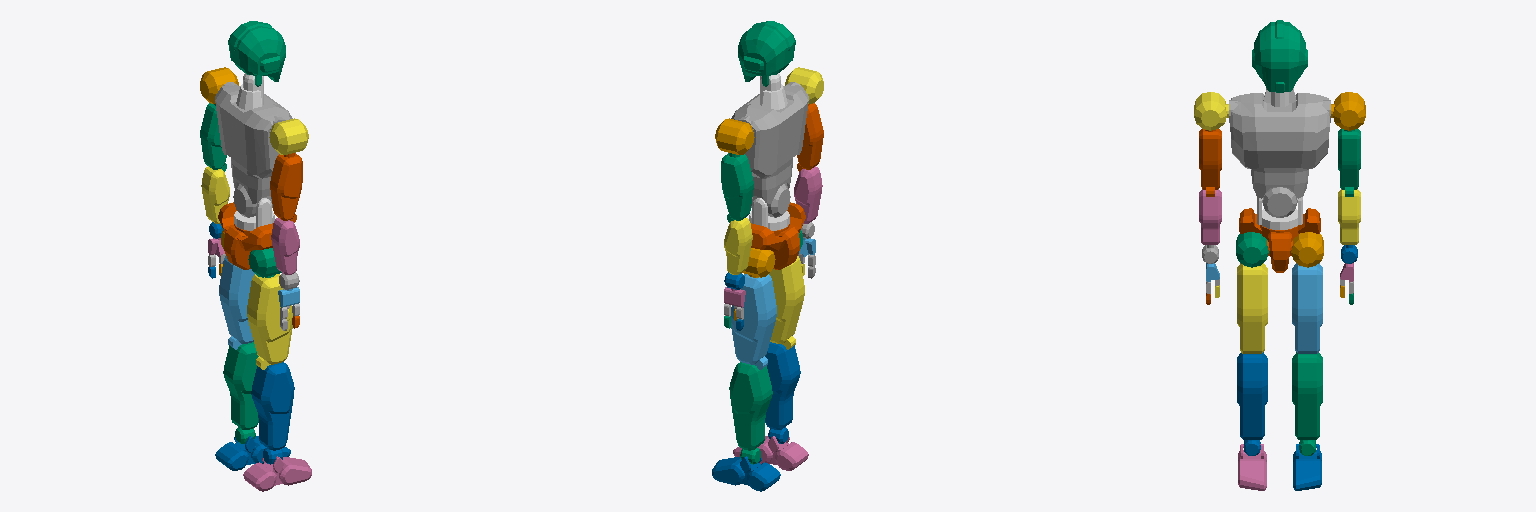
--- Facts derived from the render (not from the file) ---
The picture shows the robot from 3 angles, left to right: view 1: azimuth 30°, elevation 25°; view 2: azimuth 150°, elevation 25°; view 3: azimuth 270°, elevation 25°; orthographic projection.
Robot: jvrc1 — 60 links, 59 joints (44 revolute, 15 fixed); root link base_link; default pose: every joint at zero.
Links seen in each view (by area): view 1: WAIST_R_S, R_KNEE_S, R_HIP_Y_S, NECK_P_S, L_KNEE_S, L_HIP_Y_S, R_SHOULDER_Y_S, PELVIS_S, R_ANKLE_P_S, R_ELBOW_P_S, L_ANKLE_P_S, L_SHOULDER_Y_S (+6 smaller); view 2: WAIST_R_S, L_KNEE_S, L_HIP_Y_S, NECK_P_S, R_KNEE_S, R_HIP_Y_S, L_SHOULDER_Y_S, PELVIS_S, L_ANKLE_P_S, L_ELBOW_P_S, R_ANKLE_P_S, R_SHOULDER_Y_S (+6 smaller); view 3: WAIST_R_S, NECK_P_S, R_KNEE_S, L_KNEE_S, R_HIP_Y_S, L_HIP_Y_S, PELVIS_S, R_SHOULDER_Y_S, L_SHOULDER_Y_S, R_ELBOW_P_S, L_ELBOW_P_S, R_ANKLE_P_S (+6 smaller).
Boxes of the visible links, box(x1,y1,x2,y2) form: WAIST_R_S: box(215, 82, 292, 217); R_KNEE_S: box(251, 362, 294, 464); R_HIP_Y_S: box(247, 274, 292, 369); NECK_P_S: box(228, 21, 285, 86); L_KNEE_S: box(223, 342, 258, 443); L_HIP_Y_S: box(219, 256, 254, 349); R_SHOULDER_Y_S: box(270, 153, 302, 222); PELVIS_S: box(218, 202, 272, 269); R_ANKLE_P_S: box(243, 456, 311, 491); R_ELBOW_P_S: box(271, 218, 299, 274); L_ANKLE_P_S: box(215, 436, 290, 470); L_SHOULDER_Y_S: box(200, 103, 226, 171); WAIST_R_S: box(731, 82, 808, 217); L_KNEE_S: box(729, 362, 772, 464); L_HIP_Y_S: box(731, 274, 776, 369); NECK_P_S: box(738, 21, 795, 86); R_KNEE_S: box(765, 342, 800, 443); R_HIP_Y_S: box(769, 256, 804, 349); L_SHOULDER_Y_S: box(721, 153, 753, 222); PELVIS_S: box(751, 202, 805, 269); L_ANKLE_P_S: box(712, 456, 780, 491); L_ELBOW_P_S: box(724, 218, 752, 274); R_ANKLE_P_S: box(733, 436, 808, 470); R_SHOULDER_Y_S: box(797, 103, 823, 171); WAIST_R_S: box(1229, 93, 1330, 217); NECK_P_S: box(1252, 20, 1307, 92); R_KNEE_S: box(1237, 352, 1267, 455); L_KNEE_S: box(1292, 352, 1322, 455); R_HIP_Y_S: box(1237, 263, 1267, 353); L_HIP_Y_S: box(1292, 263, 1322, 353); PELVIS_S: box(1239, 208, 1320, 272); R_SHOULDER_Y_S: box(1199, 129, 1221, 196); L_SHOULDER_Y_S: box(1338, 129, 1360, 196); R_ELBOW_P_S: box(1199, 189, 1221, 244); L_ELBOW_P_S: box(1338, 189, 1360, 244); R_ANKLE_P_S: box(1238, 444, 1266, 490).
Size in the robot's own frame: 0.2846 by 0.595 by 1.71 metres.
Meshes: 35 distinct files referenced, 35 mesh visuals loaded (35 Collada DAE).

The robot description file, URDF, robot "jvrc1":
<?xml version="1.0" encoding="utf-8" ?>
<!-- =================================================================================== -->
<!-- Copyright (c) 2012-2019, CNRS-UM LIRMM, CNRS-AIST JRL                               -->
<!-- =================================================================================== -->
<robot name="jvrc1">
  <link name="base_link"/>
  <link name="R_HIP_P_S">
    <inertial>
      <mass value="1.0"/>
      <origin rpy="0 -0 0" xyz="0.0 0.0 0.0"/>
      <inertia ixx="0.00196" ixy="0.0" ixz="0.0" iyy="0.00196" iyz="0.0" izz="0.00196"/>
    </inertial>
  </link>
  <link name="R_HIP_R_S">
    <inertial>
      <mass value="1.0"/>
      <origin rpy="0 -0 0" xyz="0.0 0.0 0.0"/>
      <inertia ixx="0.00196" ixy="0.0" ixz="0.0" iyy="0.00196" iyz="0.0" izz="0.00196"/>
    </inertial>
    <visual>
      <origin rpy="-0.0 -0.0 1.5708" xyz="0.0 0.0 0.0"/>
      <geometry>
        <mesh filename="package://jvrc_description/meshes/R_HIP_R_S.dae" />
      </geometry>
    </visual>
    <collision>
      <origin rpy="-0.0 -0.0 1.5708" xyz="0.0 0.0 0.0"/>
      <geometry>
        <mesh filename="package://jvrc_description/meshes/R_HIP_R_S.dae" />
      </geometry>
    </collision>
  </link>
  <link name="R_HIP_Y_S">
    <inertial>
      <mass value="3.0"/>
      <origin rpy="0 -0 0" xyz="0.01 0.0 -0.22"/>
      <inertia ixx="0.031925" ixy="0.0" ixz="0.0" iyy="0.034525" iyz="0.0" izz="0.00865"/>
    </inertial>
    <visual>
      <origin rpy="-0.0 -0.0 1.5708" xyz="0.0 0.0 0.0"/>
      <geometry>
        <mesh filename="package://jvrc_description/meshes/R_HIP_Y_S.dae" />
      </geometry>
    </visual>
    <collision>
      <origin rpy="-0.0 -0.0 1.5708" xyz="0.0 0.0 0.0"/>
      <geometry>
        <mesh filename="package://jvrc_description/meshes/R_HIP_Y_S.dae" />
      </geometry>
    </collision>
  </link>
  <link name="R_KNEE_S">
    <inertial>
      <mass value="3.0"/>
      <origin rpy="0 -0 0" xyz="0.04 0.0 -0.16"/>
      <inertia ixx="0.031925" ixy="0.0" ixz="0.0" iyy="0.034525" iyz="0.0" izz="0.00865"/>
    </inertial>
    <visual>
      <origin rpy="0.0 0.0 0.0" xyz="0.0 0.0 0.0" />
      <geometry>
        <mesh filename="package://jvrc_description/meshes/R_KNEE_S.dae" />
      </geometry>
    </visual>
    <collision>
      <origin rpy="0.0 0.0 0.0" xyz="0.0 0.0 0.0" />
      <geometry>
        <mesh filename="package://jvrc_description/meshes/R_KNEE_S.dae" />
      </geometry>
    </collision>
  </link>
  <link name="R_ANKLE_R_S">
    <inertial>
      <mass value="1.0"/>
      <origin rpy="0 -0 0" xyz="0.0 0.0 0.0"/>
      <inertia ixx="0.00064" ixy="0.0" ixz="0.0" iyy="0.00064" iyz="0.0" izz="0.00064"/>
    </inertial>
  </link>
  <link name="R_ANKLE_P_S">
    <inertial>
      <mass value="1.5"/>
      <origin rpy="0 -0 0" xyz="0.03 0.0 -0.07"/>
      <inertia ixx="0.00141666666667" ixy="0.0" ixz="0.0" iyy="0.00561666666667" iyz="0.0" izz="0.00621666666667"/>
    </inertial>
    <visual>
      <origin rpy="-0.0 -0.0 1.5708" xyz="0.0 0.0 0.0"/>
      <geometry>
        <mesh filename="package://jvrc_description/meshes/R_ANKLE_P_S.dae" />
      </geometry>
    </visual>
    <collision>
      <origin rpy="-0.0 -0.0 1.5708" xyz="0.0 0.0 0.0"/>
      <geometry>
        <mesh filename="package://jvrc_description/meshes/R_ANKLE_P_S.dae" />
      </geometry>
    </collision>
  </link>
  <link name="L_HIP_P_S">
    <inertial>
      <mass value="1.0"/>
      <origin rpy="0 -0 0" xyz="0.0 0.0 0.0"/>
      <inertia ixx="0.00196" ixy="0.0" ixz="0.0" iyy="0.00196" iyz="0.0" izz="0.00196"/>
    </inertial>
  </link>
  <link name="L_HIP_R_S">
    <inertial>
      <mass value="1.0"/>
      <origin rpy="0 -0 0" xyz="0.0 0.0 0.0"/>
      <inertia ixx="0.00196" ixy="0.0" ixz="0.0" iyy="0.00196" iyz="0.0" izz="0.00196"/>
    </inertial>
    <visual>
      <origin rpy="-0.0 -0.0 1.5708" xyz="0.0 0.0 0.0"/>
      <geometry>
        <mesh filename="package://jvrc_description/meshes/L_HIP_R_S.dae" />
      </geometry>
    </visual>
    <collision>
      <origin rpy="-0.0 -0.0 1.5708" xyz="0.0 0.0 0.0"/>
      <geometry>
        <mesh filename="package://jvrc_description/meshes/L_HIP_R_S.dae" />
      </geometry>
    </collision>
  </link>
  <link name="L_HIP_Y_S">
    <inertial>
      <mass value="3.0"/>
      <origin rpy="0 -0 0" xyz="0.01 0.0 -0.22"/>
      <inertia ixx="0.031925" ixy="0.0" ixz="0.0" iyy="0.034525" iyz="0.0" izz="0.00865"/>
    </inertial>
    <visual>
      <origin rpy="-0.0 -0.0 1.5708" xyz="0.0 0.0 0.0"/>
      <geometry>
        <mesh filename="package://jvrc_description/meshes/L_HIP_Y_S.dae" />
      </geometry>
    </visual>
    <collision>
      <origin rpy="-0.0 -0.0 1.5708" xyz="0.0 0.0 0.0"/>
      <geometry>
        <mesh filename="package://jvrc_description/meshes/L_HIP_Y_S.dae" />
      </geometry>
    </collision>
  </link>
  <link name="L_KNEE_S">
    <inertial>
      <mass value="3.0"/>
      <origin rpy="0 -0 0" xyz="0.04 0.0 -0.16"/>
      <inertia ixx="0.031925" ixy="0.0" ixz="0.0" iyy="0.034525" iyz="0.0" izz="0.00865"/>
    </inertial>
    <visual>
      <origin rpy="0.0 0.0 0.0" xyz="0.0 0.0 0.0"/>
      <geometry>
        <mesh filename="package://jvrc_description/meshes/L_KNEE_S.dae" />
      </geometry>
    </visual>
    <collision>
      <origin rpy="0.0 0.0 0.0" xyz="0.0 0.0 0.0"/>
      <geometry>
        <mesh filename="package://jvrc_description/meshes/L_KNEE_S.dae" />
      </geometry>
    </collision>
  </link>
  <link name="L_ANKLE_R_S">
    <inertial>
      <mass value="1.0"/>
      <origin rpy="0 -0 0" xyz="0.0 0.0 0.0"/>
      <inertia ixx="0.00064" ixy="0.0" ixz="0.0" iyy="0.00064" iyz="0.0" izz="0.00064"/>
    </inertial>
  </link>
  <link name="L_ANKLE_P_S">
    <inertial>
      <mass value="1.5"/>
      <origin rpy="0 -0 0" xyz="0.03 0.0 -0.07"/>
      <inertia ixx="0.00141666666667" ixy="0.0" ixz="0.0" iyy="0.00561666666667" iyz="0.0" izz="0.00621666666667"/>
    </inertial>
    <visual>
      <origin rpy="-0.0 -0.0 1.5708" xyz="0.0 0.0 0.0"/>
      <geometry>
        <mesh filename="package://jvrc_description/meshes/L_ANKLE_P_S.dae" />
      </geometry>
    </visual>
    <collision>
      <origin rpy="-0.0 -0.0 1.5708" xyz="0.0 0.0 0.0"/>
      <geometry>
        <mesh filename="package://jvrc_description/meshes/L_ANKLE_P_S.dae" />
      </geometry>
    </collision>
  </link>
  <link name="WAIST_Y_S">
    <inertial>
      <mass value="1.0"/>
      <origin rpy="0 -0 0" xyz="0.0 0.0 -0.07"/>
      <inertia ixx="0.00173333333333" ixy="0.0" ixz="0.0" iyy="0.00173333333333" iyz="0.0" izz="0.0032"/>
    </inertial>
    <visual>
      <origin rpy="-0.0 -0.0 1.5708" xyz="0.0 0.0 0.0"/>
      <geometry>
        <mesh filename="package://jvrc_description/meshes/WAIST_Y_S.dae" />
      </geometry>
    </visual>
    <collision>
      <origin rpy="-0.0 -0.0 1.5708" xyz="0.0 0.0 0.0"/>
      <geometry>
        <mesh filename="package://jvrc_description/meshes/WAIST_Y_S.dae" />
      </geometry>
    </collision>
  </link>
  <link name="WAIST_P_S">
    <inertial>
      <mass value="1.0"/>
      <origin rpy="0 -0 0" xyz="0.0 0.0 0.0"/>
      <inertia ixx="0.00245" ixy="0.0" ixz="0.0" iyy="0.002425" iyz="0.0" izz="0.002425"/>
    </inertial>
  </link>
  <link name="WAIST_R_S">
    <inertial>
      <mass value="10.0"/>
      <origin rpy="0 -0 0" xyz="0.02 0.0 0.24"/>
      <inertia ixx="0.157083333333" ixy="0.0" ixz="0.0" iyy="0.101083333333" iyz="0.0" izz="0.136666666667"/>
    </inertial>
    <visual>
      <origin rpy="0.0 0.0 0.0" xyz="0.0 0.0 0.0"/>
      <geometry>
        <mesh filename="package://jvrc_description/meshes/WAIST_R_S.dae" />
      </geometry>
    </visual>
    <collision>
      <origin rpy="0.0 0.0 0.0" xyz="0.0 0.0 0.0"/>
      <geometry>
        <mesh filename="package://jvrc_description/meshes/WAIST_R_S.dae" />
      </geometry>
    </collision>
  </link>
  <link name="NECK_Y_S">
    <inertial>
      <mass value="0.5"/>
      <origin rpy="0 -0 0" xyz="0.0 0.0 -0.05"/>
      <inertia ixx="0.000729166666667" ixy="0.0" ixz="0.0" iyy="0.000729166666667" iyz="0.0" izz="0.000625"/>
    </inertial>
    <visual>
      <origin rpy="-0.0 -0.0 1.5708" xyz="0.0 0.0 0.0"/>
      <geometry>
        <mesh filename="package://jvrc_description/meshes/NECK_Y_S.dae" />
      </geometry>
    </visual>
    <collision>
      <origin rpy="-0.0 -0.0 1.5708" xyz="0.0 0.0 0.0"/>
      <geometry>
        <mesh filename="package://jvrc_description/meshes/NECK_Y_S.dae" />
      </geometry>
    </collision>
  </link>
  <link name="NECK_R_S">
    <inertial>
      <mass value="0.5"/>
      <origin rpy="0 -0 0" xyz="0.0 0.0 0.0"/>
      <inertia ixx="0.0005" ixy="0.0" ixz="0.0" iyy="0.0005" iyz="0.0" izz="0.0005"/>
    </inertial>
  </link>
  <link name="NECK_P_S">
    <inertial>
      <mass value="2.0"/>
      <origin rpy="0 -0 0" xyz="0.01 0.0 0.11"/>
      <inertia ixx="0.00968" ixy="0.0" ixz="0.0" iyy="0.00968" iyz="0.0" izz="0.00968"/>
    </inertial>
    <visual>
      <origin rpy="-0.0 0.0 0.0" xyz="0.0 0.0 0.0"/>
      <geometry>
        <mesh filename="package://jvrc_description/meshes/NECK_P_S.dae" />
      </geometry>
    </visual>
    <collision>
      <origin rpy="-0.0 0.0 0.0" xyz="0.0 0.0 0.0"/>
      <geometry>
        <mesh filename="package://jvrc_description/meshes/NECK_P_S.dae" />
      </geometry>
    </collision>
  </link>
  <link name="R_SHOULDER_P_S">
    <inertial>
      <mass value="1.0"/>
      <origin rpy="0 -0 0" xyz="0.0 0.0 0.0"/>
      <inertia ixx="0.00196" ixy="0.0" ixz="0.0" iyy="0.00196" iyz="0.0" izz="0.00196"/>
    </inertial>
    <visual>
      <origin rpy="-0.0 -0.0 1.5708" xyz="0.0 0.0 0.0"/>
      <geometry>
        <mesh filename="package://jvrc_description/meshes/R_SHOULDER_P_S.dae" />
      </geometry>
    </visual>
    <collision>
      <origin rpy="-0.0 -0.0 1.5708" xyz="0.0 0.0 0.0"/>
      <geometry>
        <mesh filename="package://jvrc_description/meshes/R_SHOULDER_P_S.dae" />
      </geometry>
    </collision>
  </link>
  <link name="R_SHOULDER_R_S">
    <inertial>
      <mass value="1.0"/>
      <origin rpy="0 -0 0" xyz="0.0 0.0 0.0"/>
      <inertia ixx="0.00196" ixy="0.0" ixz="0.0" iyy="0.00196" iyz="0.0" izz="0.00196"/>
    </inertial>
  </link>
  <link name="R_SHOULDER_Y_S">
    <inertial>
      <mass value="2.0"/>
      <origin rpy="0 -0 0" xyz="-0.01 0.0 -0.19"/>
      <inertia ixx="0.01365" ixy="0.0" ixz="0.0" iyy="0.0146" iyz="0.0" izz="0.00635"/>
    </inertial>
    <visual>
      <origin rpy="-0.0 -0.0 1.5708" xyz="0.0 0.0 0.0"/>
      <geometry>
        <mesh filename="package://jvrc_description/meshes/R_SHOULDER_Y_S.dae" />
      </geometry>
    </visual>
    <collision>
      <origin rpy="-0.0 -0.0 1.5708" xyz="0.0 0.0 0.0"/>
      <geometry>
        <mesh filename="package://jvrc_description/meshes/R_SHOULDER_Y_S.dae" />
      </geometry>
    </collision>
  </link>
  <link name="R_ELBOW_P_S">
    <inertial>
      <mass value="1.0"/>
      <origin rpy="0 -0 0" xyz="-0.02 0.0 -0.1"/>
      <inertia ixx="0.010675" ixy="0.0" ixz="0.0" iyy="0.010675" iyz="0.0" izz="0.0027"/>
    </inertial>
    <visual>
      <origin rpy="-0.0 -0.0 1.5708" xyz="0.0 0.0 0.0"/>
      <geometry>
        <mesh filename="package://jvrc_description/meshes/R_ELBOW_P_S.dae" />
      </geometry>
    </visual>
    <collision>
      <origin rpy="-0.0 -0.0 1.5708" xyz="0.0 0.0 0.0"/>
      <geometry>
        <mesh filename="package://jvrc_description/meshes/R_ELBOW_P_S.dae" />
      </geometry>
    </collision>
  </link>
  <link name="R_ELBOW_Y_S">
    <inertial>
      <mass value="1.0"/>
      <origin rpy="0 -0 0" xyz="0.0 0.0 0.0"/>
      <inertia ixx="0.00064" ixy="0.0" ixz="0.0" iyy="0.00064" iyz="0.0" izz="0.00064"/>
    </inertial>
    <visual>
      <origin rpy="-0.0 -0.0 1.5708" xyz="0.0 0.0 0.0"/>
      <geometry>
        <mesh filename="package://jvrc_description/meshes/R_ELBOW_Y_S.dae" />
      </geometry>
    </visual>
    <collision>
      <origin rpy="-0.0 -0.0 1.5708" xyz="0.0 0.0 0.0"/>
      <geometry>
        <mesh filename="package://jvrc_description/meshes/R_ELBOW_Y_S.dae" />
      </geometry>
    </collision>
  </link>
  <link name="R_WRIST_R_S">
    <inertial>
      <mass value="0.5"/>
      <origin rpy="0 -0 0" xyz="0.0 0.0 0.0"/>
      <inertia ixx="0.00032" ixy="0.0" ixz="0.0" iyy="0.00032" iyz="0.0" izz="0.00032"/>
    </inertial>
  </link>
  <link name="R_WRIST_Y_S">
    <inertial>
      <mass value="0.5"/>
      <origin rpy="0 -0 0" xyz="0.0 0.01 -0.06"/>
      <inertia ixx="0.0004625" ixy="0.0" ixz="0.0" iyy="0.0007625" iyz="0.0" izz="0.0004625"/>
    </inertial>
    <visual>
      <origin rpy="-0.0 -0.0 1.5708" xyz="0.0 0.0 0.0"/>
      <geometry>
        <mesh filename="package://jvrc_description/meshes/R_WRIST_Y_S.dae" />
      </geometry>
    </visual>
    <collision>
      <origin rpy="-0.0 -0.0 1.5708" xyz="0.0 0.0 0.0"/>
      <geometry>
        <mesh filename="package://jvrc_description/meshes/R_WRIST_Y_S.dae" />
      </geometry>
    </collision>
  </link>
  <link name="R_UTHUMB_S">
    <inertial>
      <mass value="0.2"/>
      <origin rpy="0 -0 0" xyz="0.0 0.0 -0.015"/>
      <inertia ixx="6.16666666667e-05" ixy="0.0" ixz="0.0" iyy="6.16666666667e-05" iyz="0.0" izz="2.66666666667e-05"/>
    </inertial>
    <visual>
      <origin rpy="-0.0 -0.0 1.5708" xyz="0.0 0.0 0.0"/>
      <geometry>
        <mesh filename="package://jvrc_description/meshes/R_UTHUMB_S.dae" />
      </geometry>
    </visual>
    <collision>
      <origin rpy="-0.0 -0.0 1.5708" xyz="0.0 0.0 0.0"/>
      <geometry>
        <mesh filename="package://jvrc_description/meshes/R_UTHUMB_S.dae" />
      </geometry>
    </collision>
  </link>
  <link name="R_LTHUMB_S">
    <inertial>
      <mass value="0.2"/>
      <origin rpy="0 -0 0" xyz="0.0 0.0 -0.015"/>
      <inertia ixx="6.16666666667e-05" ixy="0.0" ixz="0.0" iyy="6.16666666667e-05" iyz="0.0" izz="2.66666666667e-05"/>
    </inertial>
    <visual>
      <origin rpy="-0.0 -0.0 1.5708" xyz="0.0 0.0 0.0"/>
      <geometry>
        <mesh filename="package://jvrc_description/meshes/R_LTHUMB_S.dae" />
      </geometry>
    </visual>
    <collision>
      <origin rpy="-0.0 -0.0 1.5708" xyz="0.0 0.0 0.0"/>
      <geometry>
        <mesh filename="package://jvrc_description/meshes/R_LTHUMB_S.dae" />
      </geometry>
    </collision>
  </link>
  <link name="R_UINDEX_S">
    <inertial>
      <mass value="0.2"/>
      <origin rpy="0 -0 0" xyz="0.0 0.0 -0.015"/>
      <inertia ixx="6.16666666667e-05" ixy="0.0" ixz="0.0" iyy="6.16666666667e-05" iyz="0.0" izz="2.66666666667e-05"/>
    </inertial>
    <visual>
      <origin rpy="-0.0 -0.0 1.5708" xyz="0.0 0.0 0.0"/>
      <geometry>
        <mesh filename="package://jvrc_description/meshes/R_UINDEX_S.dae" />
      </geometry>
    </visual>
    <collision>
      <origin rpy="-0.0 -0.0 1.5708" xyz="0.0 0.0 0.0"/>
      <geometry>
        <mesh filename="package://jvrc_description/meshes/R_UINDEX_S.dae" />
      </geometry>
    </collision>
  </link>
  <link name="R_LINDEX_S">
    <inertial>
      <mass value="0.2"/>
      <origin rpy="0 -0 0" xyz="0.0 0.0 -0.015"/>
      <inertia ixx="6.16666666667e-05" ixy="0.0" ixz="0.0" iyy="6.16666666667e-05" iyz="0.0" izz="2.66666666667e-05"/>
    </inertial>
    <visual>
      <origin rpy="-0.0 -0.0 1.5708" xyz="0.0 0.0 0.0"/>
      <geometry>
        <mesh filename="package://jvrc_description/meshes/R_LINDEX_S.dae" />
      </geometry>
    </visual>
    <collision>
      <origin rpy="-0.0 -0.0 1.5708" xyz="0.0 0.0 0.0"/>
      <geometry>
        <mesh filename="package://jvrc_description/meshes/R_LINDEX_S.dae" />
      </geometry>
    </collision>
  </link>
  <link name="R_ULITTLE_S">
    <inertial>
      <mass value="0.2"/>
      <origin rpy="0 -0 0" xyz="0.0 0.0 -0.015"/>
      <inertia ixx="6.16666666667e-05" ixy="0.0" ixz="0.0" iyy="6.16666666667e-05" iyz="0.0" izz="2.66666666667e-05"/>
    </inertial>
    <visual>
      <origin rpy="-0.0 -0.0 1.5708" xyz="0.0 0.0 0.0"/>
      <geometry>
        <mesh filename="package://jvrc_description/meshes/R_ULITTLE_S.dae" />
      </geometry>
    </visual>
    <collision>
      <origin rpy="-0.0 -0.0 1.5708" xyz="0.0 0.0 0.0"/>
      <geometry>
        <mesh filename="package://jvrc_description/meshes/R_ULITTLE_S.dae" />
      </geometry>
    </collision>
  </link>
  <link name="R_LLITTLE_S">
    <inertial>
      <mass value="0.2"/>
      <origin rpy="0 -0 0" xyz="0.0 0.0 -0.015"/>
      <inertia ixx="6.16666666667e-05" ixy="0.0" ixz="0.0" iyy="6.16666666667e-05" iyz="0.0" izz="2.66666666667e-05"/>
    </inertial>
    <visual>
      <origin rpy="-0.0 -0.0 1.5708" xyz="0.0 0.0 0.0"/>
      <geometry>
        <mesh filename="package://jvrc_description/meshes/R_LLITTLE_S.dae" />
      </geometry>
    </visual>
    <collision>
      <origin rpy="-0.0 -0.0 1.5708" xyz="0.0 0.0 0.0"/>
      <geometry>
        <mesh filename="package://jvrc_description/meshes/R_LLITTLE_S.dae" />
      </geometry>
    </collision>
  </link>
  <link name="L_SHOULDER_P_S">
    <inertial>
      <mass value="1.0"/>
      <origin rpy="0 -0 0" xyz="0.0 0.0 0.0"/>
      <inertia ixx="0.00196" ixy="0.0" ixz="0.0" iyy="0.00196" iyz="0.0" izz="0.00196"/>
    </inertial>
    <visual>
      <origin rpy="-0.0 -0.0 1.5708" xyz="0.0 0.0 0.0"/>
      <geometry>
        <mesh filename="package://jvrc_description/meshes/L_SHOULDER_P_S.dae" />
      </geometry>
    </visual>
    <collision>
      <origin rpy="-0.0 -0.0 1.5708" xyz="0.0 0.0 0.0"/>
      <geometry>
        <mesh filename="package://jvrc_description/meshes/L_SHOULDER_P_S.dae" />
      </geometry>
    </collision>
  </link>
  <link name="L_SHOULDER_R_S">
    <inertial>
      <mass value="1.0"/>
      <origin rpy="0 -0 0" xyz="0.0 0.0 0.0"/>
      <inertia ixx="0.00196" ixy="0.0" ixz="0.0" iyy="0.00196" iyz="0.0" izz="0.00196"/>
    </inertial>
  </link>
  <link name="L_SHOULDER_Y_S">
    <inertial>
      <mass value="2.0"/>
      <origin rpy="0 -0 0" xyz="-0.01 0.0 -0.19"/>
      <inertia ixx="0.01365" ixy="0.0" ixz="0.0" iyy="0.0146" iyz="0.0" izz="0.00635"/>
    </inertial>
    <visual>
      <origin rpy="-0.0 -0.0 1.5708" xyz="0.0 0.0 0.0"/>
      <geometry>
        <mesh filename="package://jvrc_description/meshes/L_SHOULDER_Y_S.dae" />
      </geometry>
    </visual>
    <collision>
      <origin rpy="-0.0 -0.0 1.5708" xyz="0.0 0.0 0.0"/>
      <geometry>
        <mesh filename="package://jvrc_description/meshes/L_SHOULDER_Y_S.dae" />
      </geometry>
    </collision>
  </link>
  <link name="L_ELBOW_P_S">
    <inertial>
      <mass value="1.0"/>
      <origin rpy="0 -0 0" xyz="-0.02 0.0 -0.1"/>
      <inertia ixx="0.010675" ixy="0.0" ixz="0.0" iyy="0.010675" iyz="0.0" izz="0.0027"/>
    </inertial>
    <visual>
      <origin rpy="-0.0 -0.0 1.5708" xyz="0.0 0.0 0.0"/>
      <geometry>
        <mesh filename="package://jvrc_description/meshes/L_ELBOW_P_S.dae" />
      </geometry>
    </visual>
    <collision>
      <origin rpy="-0.0 -0.0 1.5708" xyz="0.0 0.0 0.0"/>
      <geometry>
        <mesh filename="package://jvrc_description/meshes/L_ELBOW_P_S.dae" />
      </geometry>
    </collision>
  </link>
  <link name="L_ELBOW_Y_S">
    <inertial>
      <mass value="1.0"/>
      <origin rpy="0 -0 0" xyz="0.0 0.0 0.0"/>
      <inertia ixx="0.00064" ixy="0.0" ixz="0.0" iyy="0.00064" iyz="0.0" izz="0.00064"/>
    </inertial>
    <visual>
      <origin rpy="-0.0 -0.0 1.5708" xyz="0.0 0.0 0.0"/>
      <geometry>
        <mesh filename="package://jvrc_description/meshes/L_ELBOW_Y_S.dae" />
      </geometry>
    </visual>
    <collision>
      <origin rpy="-0.0 -0.0 1.5708" xyz="0.0 0.0 0.0"/>
      <geometry>
        <mesh filename="package://jvrc_description/meshes/L_ELBOW_Y_S.dae" />
      </geometry>
    </collision>
  </link>
  <link name="L_WRIST_R_S">
    <inertial>
      <mass value="0.5"/>
      <origin rpy="0 -0 0" xyz="0.0 0.0 0.0"/>
      <inertia ixx="0.00032" ixy="0.0" ixz="0.0" iyy="0.00032" iyz="0.0" izz="0.00032"/>
    </inertial>
  </link>
  <link name="L_WRIST_Y_S">
    <inertial>
      <mass value="0.5"/>
      <origin rpy="0 -0 0" xyz="0.0 -0.01 -0.06"/>
      <inertia ixx="0.0004625" ixy="0.0" ixz="0.0" iyy="0.0007625" iyz="0.0" izz="0.0004625"/>
    </inertial>
    <visual>
      <origin rpy="-0.0 -0.0 1.5708" xyz="0.0 0.0 0.0"/>
      <geometry>
        <mesh filename="package://jvrc_description/meshes/L_WRIST_Y_S.dae" />
      </geometry>
    </visual>
    <collision>
      <origin rpy="-0.0 -0.0 1.5708" xyz="0.0 0.0 0.0"/>
      <geometry>
        <mesh filename="package://jvrc_description/meshes/L_WRIST_Y_S.dae" />
      </geometry>
    </collision>
  </link>
  <link name="L_UTHUMB_S">
    <inertial>
      <mass value="0.2"/>
      <origin rpy="0 -0 0" xyz="0.0 0.0 -0.015"/>
      <inertia ixx="6.16666666667e-05" ixy="0.0" ixz="0.0" iyy="6.16666666667e-05" iyz="0.0" izz="2.66666666667e-05"/>
    </inertial>
    <visual>
      <origin rpy="-0.0 -0.0 1.5708" xyz="0.0 0.0 0.0"/>
      <geometry>
        <mesh filename="package://jvrc_description/meshes/L_UTHUMB_S.dae" />
      </geometry>
    </visual>
    <collision>
      <origin rpy="-0.0 -0.0 1.5708" xyz="0.0 0.0 0.0"/>
      <geometry>
        <mesh filename="package://jvrc_description/meshes/L_UTHUMB_S.dae" />
      </geometry>
    </collision>
  </link>
  <link name="L_LTHUMB_S">
    <inertial>
      <mass value="0.2"/>
      <origin rpy="0 -0 0" xyz="0.0 0.0 -0.015"/>
      <inertia ixx="6.16666666667e-05" ixy="0.0" ixz="0.0" iyy="6.16666666667e-05" iyz="0.0" izz="2.66666666667e-05"/>
    </inertial>
    <visual>
      <origin rpy="-0.0 -0.0 1.5708" xyz="0.0 0.0 0.0"/>
      <geometry>
        <mesh filename="package://jvrc_description/meshes/L_LTHUMB_S.dae" />
      </geometry>
    </visual>
    <collision>
      <origin rpy="-0.0 -0.0 1.5708" xyz="0.0 0.0 0.0"/>
      <geometry>
        <mesh filename="package://jvrc_description/meshes/L_LTHUMB_S.dae" />
      </geometry>
    </collision>
  </link>
  <link name="L_UINDEX_S">
    <inertial>
      <mass value="0.2"/>
      <origin rpy="0 -0 0" xyz="0.0 0.0 -0.015"/>
      <inertia ixx="6.16666666667e-05" ixy="0.0" ixz="0.0" iyy="6.16666666667e-05" iyz="0.0" izz="2.66666666667e-05"/>
    </inertial>
    <visual>
      <origin rpy="-0.0 -0.0 1.5708" xyz="0.0 0.0 0.0"/>
      <geometry>
        <mesh filename="package://jvrc_description/meshes/L_UINDEX_S.dae" />
      </geometry>
    </visual>
    <collision>
      <origin rpy="-0.0 -0.0 1.5708" xyz="0.0 0.0 0.0"/>
      <geometry>
        <mesh filename="package://jvrc_description/meshes/L_UINDEX_S.dae" />
      </geometry>
    </collision>
  </link>
  <link name="L_LINDEX_S">
    <inertial>
      <mass value="0.2"/>
      <origin rpy="0 -0 0" xyz="0.0 0.0 -0.015"/>
      <inertia ixx="6.16666666667e-05" ixy="0.0" ixz="0.0" iyy="6.16666666667e-05" iyz="0.0" izz="2.66666666667e-05"/>
    </inertial>
    <visual>
      <origin rpy="-0.0 -0.0 1.5708" xyz="0.0 0.0 0.0"/>
      <geometry>
        <mesh filename="package://jvrc_description/meshes/L_LINDEX_S.dae" />
      </geometry>
    </visual>
    <collision>
      <origin rpy="-0.0 -0.0 1.5708" xyz="0.0 0.0 0.0"/>
      <geometry>
        <mesh filename="package://jvrc_description/meshes/L_LINDEX_S.dae" />
      </geometry>
    </collision>
  </link>
  <link name="L_ULITTLE_S">
    <inertial>
      <mass value="0.2"/>
      <origin rpy="0 -0 0" xyz="0.0 0.0 -0.015"/>
      <inertia ixx="6.16666666667e-05" ixy="0.0" ixz="0.0" iyy="6.16666666667e-05" iyz="0.0" izz="2.66666666667e-05"/>
    </inertial>
    <visual>
      <origin rpy="-0.0 -0.0 1.5708" xyz="0.0 0.0 0.0"/>
      <geometry>
        <mesh filename="package://jvrc_description/meshes/L_ULITTLE_S.dae" />
      </geometry>
    </visual>
    <collision>
      <origin rpy="-0.0 -0.0 1.5708" xyz="0.0 0.0 0.0"/>
      <geometry>
        <mesh filename="package://jvrc_description/meshes/L_ULITTLE_S.dae" />
      </geometry>
    </collision>
  </link>
  <link name="L_LLITTLE_S">
    <inertial>
      <mass value="0.2"/>
      <origin rpy="0 -0 0" xyz="0.0 0.0 -0.015"/>
      <inertia ixx="6.16666666667e-05" ixy="0.0" ixz="0.0" iyy="6.16666666667e-05" iyz="0.0" izz="2.66666666667e-05"/>
    </inertial>
    <visual>
      <origin rpy="-0.0 -0.0 1.5708" xyz="0.0 0.0 0.0"/>
      <geometry>
        <mesh filename="package://jvrc_description/meshes/L_LLITTLE_S.dae" />
      </geometry>
    </visual>
    <collision>
      <origin rpy="-0.0 -0.0 1.5708" xyz="0.0 0.0 0.0"/>
      <geometry>
        <mesh filename="package://jvrc_description/meshes/L_LLITTLE_S.dae" />
      </geometry>
    </collision>
  </link>
  <link name="PELVIS_S">
    <inertial>
      <mass value="10.0"/>
      <origin rpy="0 -0 0" xyz="-0.01 0.0 0.034"/>
      <inertia ixx="0.0895833333333" ixy="0.0" ixz="0.0" iyy="0.0895833333333" iyz="0.0" izz="0.1125"/>
    </inertial>
    <visual>
      <origin rpy="-0.0 -0.0 1.5708" xyz="0.0 0.0 0.0"/>
      <geometry>
        <mesh filename="package://jvrc_description/meshes/PELVIS_S.dae" />
      </geometry>
    </visual>
    <collision>
      <origin rpy="-0.0 -0.0 1.5708" xyz="0.0 0.0 0.0"/>
      <geometry>
        <mesh filename="package://jvrc_description/meshes/PELVIS_S.dae" />
      </geometry>
    </collision>
  </link>
  <joint name="waist" type="fixed">
    <parent link="base_link"/>
    <child link="PELVIS_S"/>
    <origin rpy="0 0 0" xyz="0 0 0"/>
  </joint>
  <joint name="R_HIP_P" type="revolute">
    <origin rpy="0.0 -0.0 0.0" xyz="0.0 -0.096 0.0"/>
    <axis xyz="0.0 1.0 0.0"/>
    <parent link="PELVIS_S"/>
    <child link="R_HIP_P_S"/>
    <limit effort="100.0" lower="-2.09439510239" upper="0.785398163397" velocity="12.56636"/>
  </joint>
  <joint name="R_HIP_R" type="revolute">
    <origin rpy="0.0 -0.0 0.0" xyz="0.0 2.77555756156e-17 0.0"/>
    <axis xyz="1.0 0.0 0.0"/>
    <parent link="R_HIP_P_S"/>
    <child link="R_HIP_R_S"/>
    <limit effort="100.0" lower="-0.785398163397" upper="0.349065850399" velocity="8.90117"/>
  </joint>
  <joint name="R_HIP_Y" type="revolute">
    <origin rpy="0.0 -0.0 0.0" xyz="0.0 2.77555756156e-17 0.0"/>
    <axis xyz="0.0 0.0 1.0"/>
    <parent link="R_HIP_R_S"/>
    <child link="R_HIP_Y_S"/>
    <limit effort="100.0" lower="-0.523598775598" upper="0.785398163397" velocity="8.90117"/>
  </joint>
  <joint name="R_KNEE" type="revolute">
    <origin rpy="0.0 -0.0 0.0" xyz="-0.02 2.77555756156e-17 -0.389"/>
    <axis xyz="0.0 1.0 0.0"/>
    <parent link="R_HIP_Y_S"/>
    <child link="R_KNEE_S"/>
    <limit effort="100.0" lower="0.0" upper="2.61799387799" velocity="14.66075"/>
  </joint>
  <joint name="R_ANKLE_R" type="revolute">
    <origin rpy="0.0 -0.0 0.0" xyz="0.04 1.11022302463e-16 -0.357"/>
    <axis xyz="1.0 0.0 0.0"/>
    <parent link="R_KNEE_S"/>
    <child link="R_ANKLE_R_S"/>
    <limit effort="100.0" lower="-0.610865238198" upper="0.785398163397" velocity="15.18435"/>
  </joint>
  <joint name="R_ANKLE_P" type="revolute">
    <origin rpy="0.0 -0.0 0.0" xyz="-1.73472347598e-17 -4.4408920985e-16 -1.11022302463e-16"/>
    <axis xyz="0.0 1.0 0.0"/>
    <parent link="R_ANKLE_R_S"/>
    <child link="R_ANKLE_P_S"/>
    <limit effort="100.0" lower="-1.4835298642" upper="0.959931088597" velocity="14.18435"/>
  </joint>
  <joint name="L_HIP_P" type="revolute">
    <origin rpy="0.0 -0.0 0.0" xyz="0.0 0.096 0.0"/>
    <axis xyz="0.0 1.0 0.0"/>
    <parent link="PELVIS_S"/>
    <child link="L_HIP_P_S"/>
    <limit effort="100.0" lower="-2.09439510239" upper="0.785398163397" velocity="12.56636"/>
  </joint>
  <joint name="L_HIP_R" type="revolute">
    <origin rpy="0.0 -0.0 0.0" xyz="0.0 -2.77555756156e-17 0.0"/>
    <axis xyz="1.0 0.0 0.0"/>
    <parent link="L_HIP_P_S"/>
    <child link="L_HIP_R_S"/>
    <limit effort="100.0" lower="-0.349065850399" upper="0.785398163397" velocity="8.90117"/>
  </joint>
  <joint name="L_HIP_Y" type="revolute">
    <origin rpy="0.0 -0.0 0.0" xyz="0.0 -2.77555756156e-17 0.0"/>
    <axis xyz="0.0 0.0 1.0"/>
    <parent link="L_HIP_R_S"/>
    <child link="L_HIP_Y_S"/>
    <limit effort="100.0" lower="-0.785398163397" upper="0.523598775598" velocity="8.90117"/>
  </joint>
  <joint name="L_KNEE" type="revolute">
    <origin rpy="0.0 -0.0 0.0" xyz="-0.02 -2.77555756156e-17 -0.389"/>
    <axis xyz="0.0 1.0 0.0"/>
    <parent link="L_HIP_Y_S"/>
    <child link="L_KNEE_S"/>
    <limit effort="100.0" lower="0.0" upper="2.61799387799" velocity="14.66075"/>
  </joint>
  <joint name="L_ANKLE_R" type="revolute">
    <origin rpy="0.0 -0.0 0.0" xyz="0.04 1.52655665886e-16 -0.357"/>
    <axis xyz="1.0 0.0 0.0"/>
    <parent link="L_KNEE_S"/>
    <child link="L_ANKLE_R_S"/>
    <limit effort="100.0" lower="-0.785398163397" upper="0.610865238198" velocity="15.18435"/>
  </joint>
  <joint name="L_ANKLE_P" type="revolute">
    <origin rpy="0.0 -0.0 0.0" xyz="-4.85722573274e-17 3.60822483003e-16 -2.22044604925e-16"/>
    <axis xyz="0.0 1.0 0.0"/>
    <parent link="L_ANKLE_R_S"/>
    <child link="L_ANKLE_P_S"/>
    <limit effort="100.0" lower="-1.4835298642" upper="0.959931088597" velocity="14.18435"/>
  </joint>
  <joint name="WAIST_Y" type="revolute">
    <origin rpy="0.0 -0.0 0.0" xyz="0.0 0.0 0.192"/>
    <axis xyz="0.0 0.0 1.0"/>
    <parent link="PELVIS_S"/>
    <child link="WAIST_Y_S"/>
    <limit effort="100.0" lower="-0.785398163397" upper="0.785398163397" velocity="8.90117"/>
  </joint>
  <joint name="WAIST_P" type="revolute">
    <origin rpy="0.0 -0.0 0.0" xyz="0.0 0.0 -1.11022302463e-16"/>
    <axis xyz="0.0 1.0 0.0"/>
    <parent link="WAIST_Y_S"/>
    <child link="WAIST_P_S"/>
    <limit effort="100.0" lower="-0.523598775598" upper="1.0471975512" velocity="8.90117"/>
  </joint>
  <joint name="WAIST_R" type="revolute">
    <origin rpy="0.0 -0.0 0.0" xyz="0.0 0.0 -1.11022302463e-16"/>
    <axis xyz="1.0 0.0 0.0"/>
    <parent link="WAIST_P_S"/>
    <child link="WAIST_R_S"/>
    <limit effort="100.0" lower="-0.872664625997" upper="0.872664625997" velocity="9.42477"/>
  </joint>
  <joint name="NECK_Y" type="revolute">
    <origin rpy="0.0 -0.0 0.0" xyz="-0.003 0.0 0.453"/>
    <axis xyz="0.0 0.0 1.0"/>
    <parent link="WAIST_R_S"/>
    <child link="NECK_Y_S"/>
    <limit effort="100.0" lower="-1.2217304764" upper="1.2217304764" velocity="5.23598"/>
  </joint>
  <joint name="NECK_R" type="revolute">
    <origin rpy="0.0 -0.0 0.0" xyz="8.23993651089e-18 0.0 2.22044604925e-16"/>
    <axis xyz="1.0 0.0 0.0"/>
    <parent link="NECK_Y_S"/>
    <child link="NECK_R_S"/>
    <limit effort="100.0" lower="-0.872664625997" upper="0.872664625997" velocity="5.75958"/>
  </joint>
  <joint name="NECK_P" type="revolute">
    <origin rpy="0.0 -0.0 0.0" xyz="8.23993651089e-18 0.0 2.22044604925e-16"/>
    <axis xyz="0.0 1.0 0.0"/>
    <parent link="NECK_R_S"/>
    <child link="NECK_P_S"/>
    <limit effort="100.0" lower="-0.872664625997" upper="1.0471975512" velocity="5.75958"/>
  </joint>
  <joint name="R_SHOULDER_P" type="revolute">
    <origin rpy="0.0 -0.0 0.0" xyz="0.0 -0.24 0.33"/>
    <axis xyz="0.0 1.0 0.0"/>
    <parent link="WAIST_R_S"/>
    <child link="R_SHOULDER_P_S"/>
    <limit effort="100.0" lower="-3.14159265359" upper="1.0471975512" velocity="8.90117"/>
  </joint>
  <joint name="R_SHOULDER_R" type="revolute">
    <origin rpy="0.0 -0.0 0.0" xyz="0.0 -2.77555756156e-17 -7.77156117238e-16"/>
    <axis xyz="1.0 0.0 0.0"/>
    <parent link="R_SHOULDER_P_S"/>
    <child link="R_SHOULDER_R_S"/>
    <limit effort="100.0" lower="-1.74532925199" upper="0.174532925199" velocity="8.90117"/>
  </joint>
  <joint name="R_SHOULDER_Y" type="revolute">
    <origin rpy="0.0 -0.0 0.0" xyz="0.0 -2.77555756156e-17 -7.77156117238e-16"/>
    <axis xyz="0.0 0.0 1.0"/>
    <parent link="R_SHOULDER_R_S"/>
    <child link="R_SHOULDER_Y_S"/>
    <limit effort="100.0" lower="-1.57079632679" upper="1.57079632679" velocity="4.18879"/>
  </joint>
  <joint name="R_ELBOW_P" type="revolute">
    <origin rpy="0.0 -0.0 0.0" xyz="0.004 2.77555756156e-17 -0.305"/>
    <axis xyz="0.0 1.0 0.0"/>
    <parent link="R_SHOULDER_Y_S"/>
    <child link="R_ELBOW_P_S"/>
    <limit effort="100.0" lower="-2.53072741539" upper="0.0" velocity="9.42477"/>
  </joint>
  <joint name="R_ELBOW_Y" type="revolute">
    <origin rpy="0.0 -0.0 0.0" xyz="-0.004 -4.99600361081e-16 -0.239"/>
    <axis xyz="0.0 0.0 1.0"/>
    <parent link="R_ELBOW_P_S"/>
    <child link="R_ELBOW_Y_S"/>
    <limit effort="100.0" lower="-1.91986217719" upper="1.91986217719" velocity="3.66519"/>
  </joint>
  <joint name="R_WRIST_R" type="revolute">
    <origin rpy="0.0 -0.0 0.0" xyz="0.0 2.77555756156e-16 -1.80411241502e-16"/>
    <axis xyz="1.0 0.0 0.0"/>
    <parent link="R_ELBOW_Y_S"/>
    <child link="R_WRIST_R_S"/>
    <limit effort="100.0" lower="-1.91986217719" upper="1.91986217719" velocity="5.75958"/>
  </joint>
  <joint name="R_WRIST_Y" type="revolute">
    <origin rpy="0.0 -0.0 0.0" xyz="0.0 2.77555756156e-16 -1.80411241502e-16"/>
    <axis xyz="0.0 0.0 1.0"/>
    <parent link="R_WRIST_R_S"/>
    <child link="R_WRIST_Y_S"/>
    <limit effort="100.0" lower="-2.61799387799" upper="2.61799387799" velocity="3.66519"/>
  </joint>
  <joint name="R_UTHUMB" type="revolute">
    <origin rpy="0.0 -0.0 0.0" xyz="0.0 0.023 -0.084"/>
    <axis xyz="1.0 0.0 0.0"/>
    <parent link="R_WRIST_Y_S"/>
    <child link="R_UTHUMB_S"/>
    <limit effort="100.0" lower="-0.785398163397" upper="0.0" velocity="6.80678"/>
  </joint>
  <joint name="R_LTHUMB" type="revolute">
    <origin rpy="0.0 -0.0 0.0" xyz="0.0 -2.47024622979e-15 -0.045"/>
    <axis xyz="1.0 0.0 0.0"/>
    <parent link="R_UTHUMB_S"/>
    <child link="R_LTHUMB_S"/>
    <limit effort="100.0" lower="-1.57079632679" upper="0.0" velocity="13.6135"/>
    <mimic joint="R_UTHUMB" multiplier="2" offset="0"/>
  </joint>
  <joint name="R_UINDEX" type="revolute">
    <origin rpy="0.0 -0.0 0.0" xyz="0.025 -0.006 -0.102"/>
    <axis xyz="1.0 0.0 0.0"/>
    <parent link="R_WRIST_Y_S"/>
    <child link="R_UINDEX_S"/>
    <limit effort="100.0" lower="0.0" upper="1.57079632679" velocity="9.42477"/>
    <mimic joint="R_UTHUMB" multiplier="-2" offset="0"/>
  </joint>
  <joint name="R_LINDEX" type="revolute">
    <origin rpy="0.0 -0.0 0.0" xyz="3.46944695195e-17 -2.77555756156e-17 -0.045"/>
    <axis xyz="1.0 0.0 0.0"/>
    <parent link="R_UINDEX_S"/>
    <child link="R_LINDEX_S"/>
    <limit effort="100.0" lower="0.0" upper="1.57079632679" velocity="5.75958"/>
    <mimic joint="R_UTHUMB" multiplier="-2" offset="0"/>
  </joint>
  <joint name="R_ULITTLE" type="revolute">
    <origin rpy="0.0 -0.0 0.0" xyz="-0.025 -0.006 -0.102"/>
    <axis xyz="1.0 0.0 0.0"/>
    <parent link="R_WRIST_Y_S"/>
    <child link="R_ULITTLE_S"/>
    <limit effort="100.0" lower="0.0" upper="1.57079632679" velocity="9.42477"/>
    <mimic joint="R_UTHUMB" multiplier="-2" offset="0"/>
  </joint>
  <joint name="R_LLITTLE" type="revolute">
    <origin rpy="0.0 -0.0 0.0" xyz="-3.46944695195e-17 -1.38777878078e-16 -0.045"/>
    <axis xyz="1.0 0.0 0.0"/>
    <parent link="R_ULITTLE_S"/>
    <child link="R_LLITTLE_S"/>
    <limit effort="100.0" lower="0.0" upper="1.57079632679" velocity="5.75958"/>
    <mimic joint="R_UTHUMB" multiplier="-2" offset="0"/>
  </joint>
  <joint name="L_SHOULDER_P" type="revolute">
    <origin rpy="0.0 -0.0 0.0" xyz="0.0 0.24 0.33"/>
    <axis xyz="0.0 1.0 0.0"/>
    <parent link="WAIST_R_S"/>
    <child link="L_SHOULDER_P_S"/>
    <limit effort="100.0" lower="-3.14159265359" upper="1.0471975512" velocity="8.90117"/>
  </joint>
  <joint name="L_SHOULDER_R" type="revolute">
    <origin rpy="0.0 -0.0 0.0" xyz="0.0 2.77555756156e-17 -5.55111512313e-16"/>
    <axis xyz="1.0 0.0 0.0"/>
    <parent link="L_SHOULDER_P_S"/>
    <child link="L_SHOULDER_R_S"/>
    <limit effort="100.0" lower="-0.174532925199" upper="1.74532925199" velocity="8.90117"/>
  </joint>
  <joint name="L_SHOULDER_Y" type="revolute">
    <origin rpy="0.0 -0.0 0.0" xyz="0.0 2.77555756156e-17 -5.55111512313e-16"/>
    <axis xyz="0.0 0.0 1.0"/>
    <parent link="L_SHOULDER_R_S"/>
    <child link="L_SHOULDER_Y_S"/>
    <limit effort="100.0" lower="-1.57079632679" upper="1.57079632679" velocity="4.18879"/>
  </joint>
  <joint name="L_ELBOW_P" type="revolute">
    <origin rpy="0.0 -0.0 0.0" xyz="0.004 -2.77555756156e-17 -0.305"/>
    <axis xyz="0.0 1.0 0.0"/>
    <parent link="L_SHOULDER_Y_S"/>
    <child link="L_ELBOW_P_S"/>
    <limit effort="100.0" lower="-2.53072741539" upper="0.0" velocity="9.42477"/>
  </joint>
  <joint name="L_ELBOW_Y" type="revolute">
    <origin rpy="0.0 -0.0 0.0" xyz="-0.004 3.88578058619e-16 -0.239"/>
    <axis xyz="0.0 0.0 1.0"/>
    <parent link="L_ELBOW_P_S"/>
    <child link="L_ELBOW_Y_S"/>
    <limit effort="100.0" lower="-1.91986217719" upper="1.91986217719" velocity="3.66519"/>
  </joint>
  <joint name="L_WRIST_R" type="revolute">
    <origin rpy="0.0 -0.0 0.0" xyz="0.0 -2.77555756156e-16 -1.80411241502e-16"/>
    <axis xyz="1.0 0.0 0.0"/>
    <parent link="L_ELBOW_Y_S"/>
    <child link="L_WRIST_R_S"/>
    <limit effort="100.0" lower="-1.91986217719" upper="1.91986217719" velocity="5.75958"/>
  </joint>
  <joint name="L_WRIST_Y" type="revolute">
    <origin rpy="0.0 -0.0 0.0" xyz="0.0 -2.77555756156e-16 -1.80411241502e-16"/>
    <axis xyz="0.0 0.0 1.0"/>
    <parent link="L_WRIST_R_S"/>
    <child link="L_WRIST_Y_S"/>
    <limit effort="100.0" lower="-2.61799387799" upper="2.61799387799" velocity="3.66519"/>
  </joint>
  <joint name="L_UTHUMB" type="revolute">
    <origin rpy="0.0 -0.0 0.0" xyz="0.0 -0.023 -0.084"/>
    <axis xyz="1.0 0.0 0.0"/>
    <parent link="L_WRIST_Y_S"/>
    <child link="L_UTHUMB_S"/>
    <limit effort="100.0" lower="-0.0" upper="0.785398163397" velocity="6.80678"/>
  </joint>
  <joint name="L_LTHUMB" type="revolute">
    <origin rpy="0.0 -0.0 0.0" xyz="0.0 2.16493489802e-15 -0.045"/>
    <axis xyz="1.0 0.0 0.0"/>
    <parent link="L_UTHUMB_S"/>
    <child link="L_LTHUMB_S"/>
    <limit effort="100.0" lower="-0.0" upper="1.57079632679" velocity="13.6135"/>
    <mimic joint="L_UTHUMB" multiplier="2" offset="0"/>
  </joint>
  <joint name="L_UINDEX" type="revolute">
    <origin rpy="0.0 -0.0 0.0" xyz="0.025 0.006 -0.102"/>
    <axis xyz="1.0 0.0 0.0"/>
    <parent link="L_WRIST_Y_S"/>
    <child link="L_UINDEX_S"/>
    <limit effort="100.0" lower="-1.57079632679" upper="0.0" velocity="9.42477"/>
    <mimic joint="L_UTHUMB" multiplier="-2" offset="0"/>
  </joint>
  <joint name="L_LINDEX" type="revolute">
    <origin rpy="0.0 -0.0 0.0" xyz="3.46944695195e-17 1.38777878078e-16 -0.045"/>
    <axis xyz="1.0 0.0 0.0"/>
    <parent link="L_UINDEX_S"/>
    <child link="L_LINDEX_S"/>
    <limit effort="100.0" lower="-1.57079632679" upper="0.0" velocity="5.75958"/>
    <mimic joint="L_UTHUMB" multiplier="-2" offset="0"/>
  </joint>
  <joint name="L_ULITTLE" type="revolute">
    <origin rpy="0.0 -0.0 0.0" xyz="-0.025 0.006 -0.102"/>
    <axis xyz="1.0 0.0 0.0"/>
    <parent link="L_WRIST_Y_S"/>
    <child link="L_ULITTLE_S"/>
    <limit effort="100.0" lower="-1.57079632679" upper="0.0" velocity="9.42477"/>
    <mimic joint="L_UTHUMB" multiplier="-2" offset="0"/>
  </joint>
  <joint name="L_LLITTLE" type="revolute">
    <origin rpy="0.0 -0.0 0.0" xyz="-3.46944695195e-17 2.77555756156e-17 -0.045"/>
    <axis xyz="1.0 0.0 0.0"/>
    <parent link="L_ULITTLE_S"/>
    <child link="L_LLITTLE_S"/>
    <limit effort="100.0" lower="-1.57079632679" upper="0.0" velocity="5.75958"/>
    <mimic joint="L_UTHUMB" multiplier="-2" offset="0"/>
  </joint>
  <link name="gsensor">
  </link>
  <joint name="gsensor_JOINT" type="fixed">
    <origin rpy="0.0 -0.0 0.0" xyz="0.0 0.0 0.0"/>
    <parent link="PELVIS_S"/>
    <child link="gsensor"/>
  </joint>
  <sensor name="gsensor_SENSOR" update_rate="20">
    <origin rpy="0.0 -0.0 0.0" xyz="0.0 0.0 0.0"/>
    <parent link="PELVIS_S"/>
  </sensor>
  <link name="gyrometer">
  </link>
  <joint name="gyrometer_JOINT" type="fixed">
    <origin rpy="0.0 -0.0 0.0" xyz="0.0 0.0 0.0"/>
    <parent link="PELVIS_S"/>
    <child link="gyrometer"/>
  </joint>
  <sensor name="gyrometer_SENSOR" update_rate="20">
    <origin rpy="0.0 -0.0 0.0" xyz="0.0 0.0 0.0"/>
    <parent link="PELVIS_S"/>
  </sensor>
  <link name="rfsensor">
  </link>
  <joint name="rfsensor_JOINT" type="fixed">
    <origin rpy="0.0 -0.0 0.0" xyz="0.0 0.0 0.0"/>
    <parent link="R_ANKLE_P_S"/>
    <child link="rfsensor"/>
  </joint>
  <sensor name="rfsensor_SENSOR" update_rate="20">
    <origin rpy="0.0 -0.0 0.0" xyz="0.0 0.0 0.0"/>
    <parent link="R_ANKLE_P_S"/>
  </sensor>
  <link name="lfsensor">
  </link>
  <joint name="lfsensor_JOINT" type="fixed">
    <origin rpy="0.0 -0.0 0.0" xyz="0.0 0.0 0.0"/>
    <parent link="L_ANKLE_P_S"/>
    <child link="lfsensor"/>
  </joint>
  <sensor name="lfsensor_SENSOR" update_rate="20">
    <origin rpy="0.0 -0.0 0.0" xyz="0.0 0.0 0.0"/>
    <parent link="L_ANKLE_P_S"/>
  </sensor>
  <link name="rcamera">
  </link>
  <joint name="rcamera_JOINT" type="fixed">
    <origin rpy="-2.09440867144 1.64830267294e-05 -1.57082487668" xyz="0.1 -0.03 0.09"/>
    <parent link="NECK_P_S"/>
    <child link="rcamera"/>
  </joint>
  <sensor name="rcamera_SENSOR" update_rate="30.0">
    <origin rpy="-2.09440867144 1.64830267294e-05 -1.57082487668" xyz="0.1 -0.03 0.09"/>
    <parent link="NECK_P_S"/>
    <camera>
      <image far="10.0" format="RGB8" height="480.0" hfov="1.0" near="0.0500000007451" width="640.0"/>
    </camera>
  </sensor>
  <link name="lcamera">
  </link>
  <joint name="lcamera_JOINT" type="fixed">
    <origin rpy="-2.09440867144 1.64830267294e-05 -1.57082487668" xyz="0.1 0.03 0.09"/>
    <parent link="NECK_P_S"/>
    <child link="lcamera"/>
  </joint>
  <sensor name="lcamera_SENSOR" update_rate="30.0">
    <origin rpy="-2.09440867144 1.64830267294e-05 -1.57082487668" xyz="0.1 0.03 0.09"/>
    <parent link="NECK_P_S"/>
    <camera>
      <image far="10.0" format="RGB8" height="480.0" hfov="1.0" near="0.0500000007451" width="640.0"/>
    </camera>
  </sensor>
  <link name="dcamera">
  </link>
  <joint name="dcamera_JOINT" type="fixed">
    <origin rpy="-2.09440867144 1.64830267294e-05 -1.57082487668" xyz="0.1 0.0 0.09"/>
    <parent link="NECK_P_S"/>
    <child link="dcamera"/>
  </joint>
  <sensor name="dcamera_SENSOR" update_rate="30.0">
    <origin rpy="-2.09440867144 1.64830267294e-05 -1.57082487668" xyz="0.1 0.0 0.09"/>
    <parent link="NECK_P_S"/>
    <camera>
      <image far="10.0" format="RGB8" height="480.0" hfov="1.0" near="0.0500000007451" width="640.0"/>
    </camera>
  </sensor>
  <link name="ranger">
  </link>
  <joint name="ranger_JOINT" type="fixed">
    <origin rpy="1.90331089466e-05 0.523612344569 -1.9033108947e-05" xyz="0.1 0.0 0.0"/>
    <parent link="NECK_P_S"/>
    <child link="ranger"/>
  </joint>
  <sensor name="ranger_SENSOR" update_rate="100.0">
    <origin rpy="1.90331089466e-05 0.523612344569 -1.9033108947e-05" xyz="0.1 0.0 0.0"/>
    <parent link="NECK_P_S"/>
    <ray>
      <horizontal max_angle="" min_angle="" resolution="1" samples="100"/>
      <vertical max_angle="0" min_angle="0" resolution="1" samples="1"/>
    </ray>
  </sensor>
  <link name="rhsensor">
  </link>
  <joint name="rhsensor_JOINT" type="fixed">
    <origin rpy="0.0 -0.0 0.0" xyz="0.0 0.0 0.0"/>
    <parent link="R_WRIST_Y_S"/>
    <child link="rhsensor"/>
  </joint>
  <sensor name="rhsensor_SENSOR" update_rate="20">
    <origin rpy="0.0 -0.0 0.0" xyz="0.0 0.0 0.0"/>
    <parent link="R_WRIST_Y_S"/>
  </sensor>
  <link name="lhsensor">
  </link>
  <joint name="lhsensor_JOINT" type="fixed">
    <origin rpy="0.0 -0.0 0.0" xyz="0.0 0.0 0.0"/>
    <parent link="L_WRIST_Y_S"/>
    <child link="lhsensor"/>
  </joint>
  <sensor name="lhsensor_SENSOR" update_rate="20">
    <origin rpy="0.0 -0.0 0.0" xyz="0.0 0.0 0.0"/>
    <parent link="L_WRIST_Y_S"/>
  </sensor>
  <!-- Virtual links -->
  <joint name="r_wrist_joint" type="fixed">
    <origin rpy="0 0 0" xyz="0 0 0"/>
    <parent link="R_WRIST_Y_S"/>
    <child link="r_wrist"/>
  </joint>
  <link name="r_wrist"/>
  <joint name="l_wrist_joint" type="fixed">
    <origin rpy="0 0 0" xyz="0 0 0"/>
    <parent link="L_WRIST_Y_S"/>
    <child link="l_wrist"/>
  </joint>
  <link name="l_wrist"/>
  <joint name="r_ankle_joint" type="fixed">
    <origin rpy="0 0 0" xyz="0 0 0"/>
    <parent link="R_ANKLE_P_S"/>
    <child link="r_ankle"/>
  </joint>
  <link name="r_ankle"/>
  <joint name="l_ankle_joint" type="fixed">
    <origin rpy="0 0 0" xyz="0 0 0"/>
    <parent link="L_ANKLE_P_S"/>
    <child link="l_ankle"/>
  </joint>
  <link name="l_ankle"/>
</robot>
